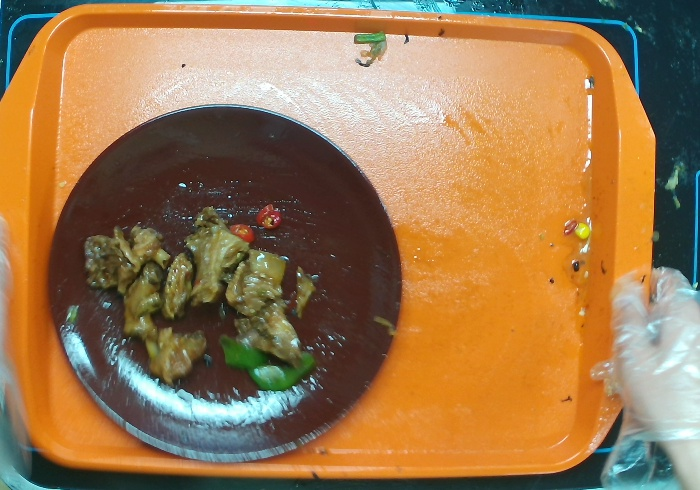HZYJPL-Ka_Fei_Yuan_Pan: (40, 101, 405, 466)
